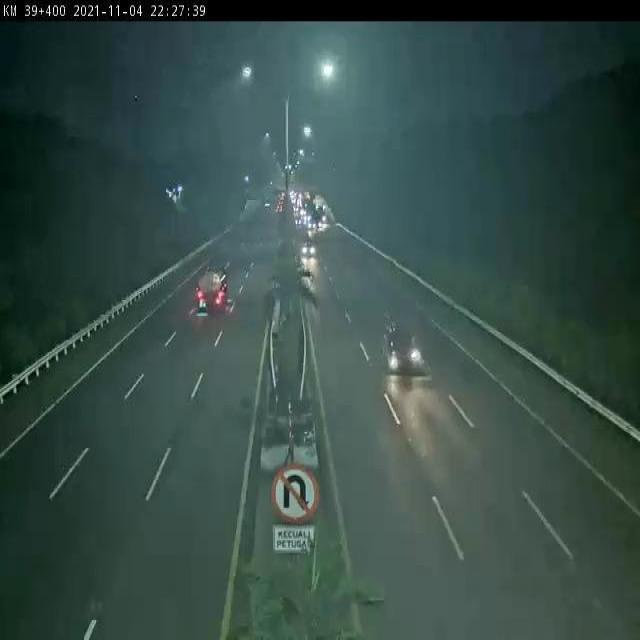car: (382, 321, 421, 375)
truck: (197, 269, 227, 312)
